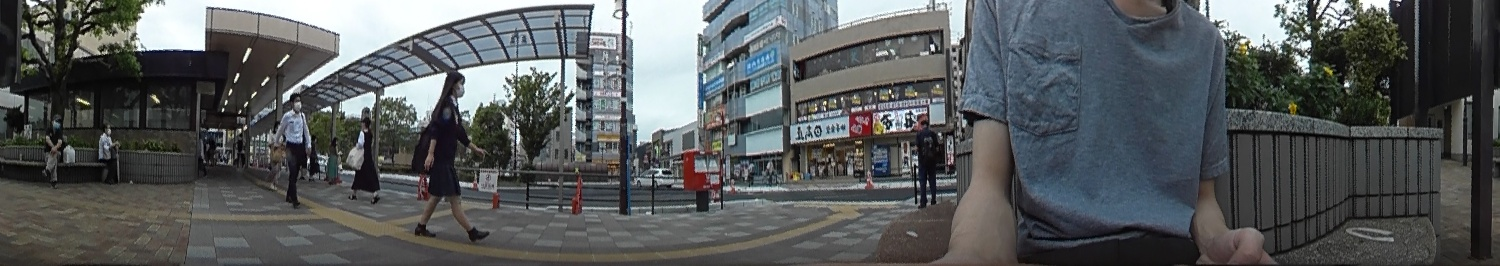difficult_person: (267, 121, 282, 186), (325, 135, 343, 182), (308, 131, 319, 177), (205, 130, 215, 165), (234, 132, 245, 161)
person: (418, 70, 489, 236), (276, 89, 309, 209), (351, 116, 383, 201), (915, 118, 942, 203), (38, 112, 67, 186), (96, 120, 120, 186)
